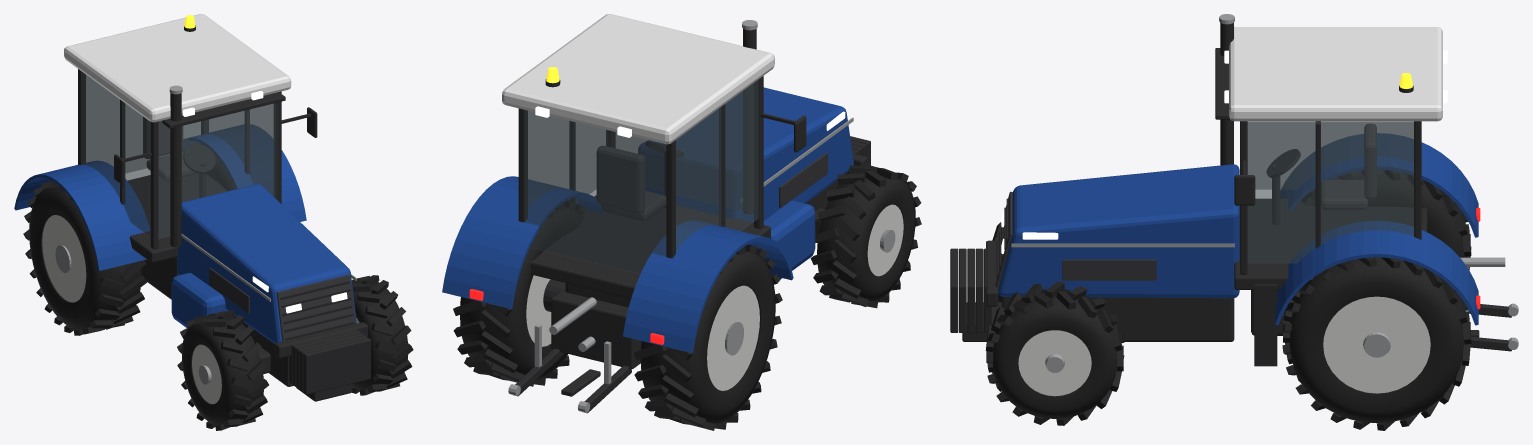
The model's file is tractor_nh_t7_300.glb.
The picture shows the model from 3 angles, left to right: view 1: azimuth 30°, elevation 25°; view 2: azimuth 150°, elevation 25°; view 3: azimuth 270°, elevation 25°; orthographic projection. The views are drawn at different scales.
Visible parts, largest first — view 1: carroceria, vidrios, rueda_td, rueda_dd, rueda_di, rueda_ti; view 2: carroceria, vidrios, rueda_td, rueda_dd, rueda_ti, tripuntal, brazos_tripuntal; view 3: carroceria, rueda_ti, vidrios, rueda_di, rueda_td, brazos_tripuntal.
Boxes of the visible parts, bbox=[...] form: carroceria: bbox=[14, 14, 370, 401]; vidrios: bbox=[82, 72, 276, 238]; rueda_td: bbox=[23, 181, 146, 335]; rueda_dd: bbox=[177, 310, 268, 430]; rueda_di: bbox=[352, 275, 413, 395]; rueda_ti: bbox=[202, 144, 235, 190]; carroceria: bbox=[442, 14, 870, 352]; vidrios: bbox=[524, 80, 758, 274]; rueda_td: bbox=[634, 244, 782, 430]; rueda_dd: bbox=[810, 163, 921, 308]; rueda_ti: bbox=[453, 200, 586, 386]; tripuntal: bbox=[551, 291, 641, 396]; brazos_tripuntal: bbox=[508, 297, 631, 413]; carroceria: bbox=[950, 14, 1478, 366]; rueda_ti: bbox=[1282, 257, 1471, 430]; vidrios: bbox=[1247, 121, 1413, 263]; rueda_di: bbox=[985, 281, 1124, 425]; rueda_td: bbox=[1302, 170, 1471, 270]; brazos_tripuntal: bbox=[1460, 257, 1518, 351].
Bounding box in the file's own units: 2.73 × 3.47 × 5.42.
